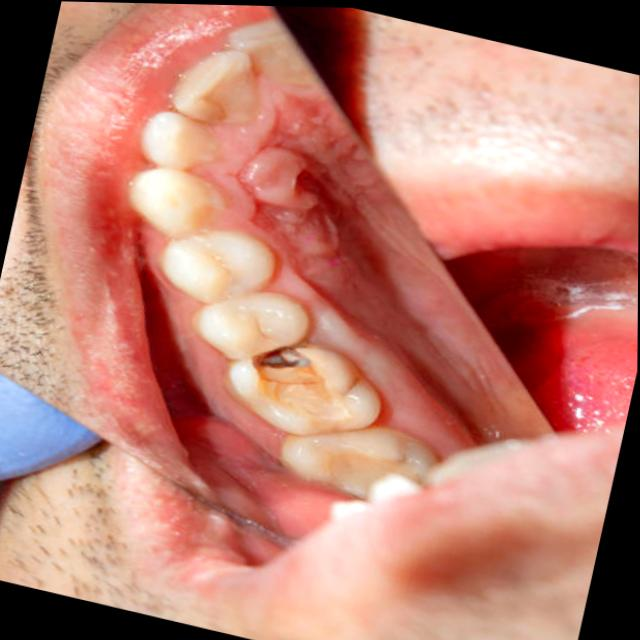cariess: (257, 347, 307, 369)
